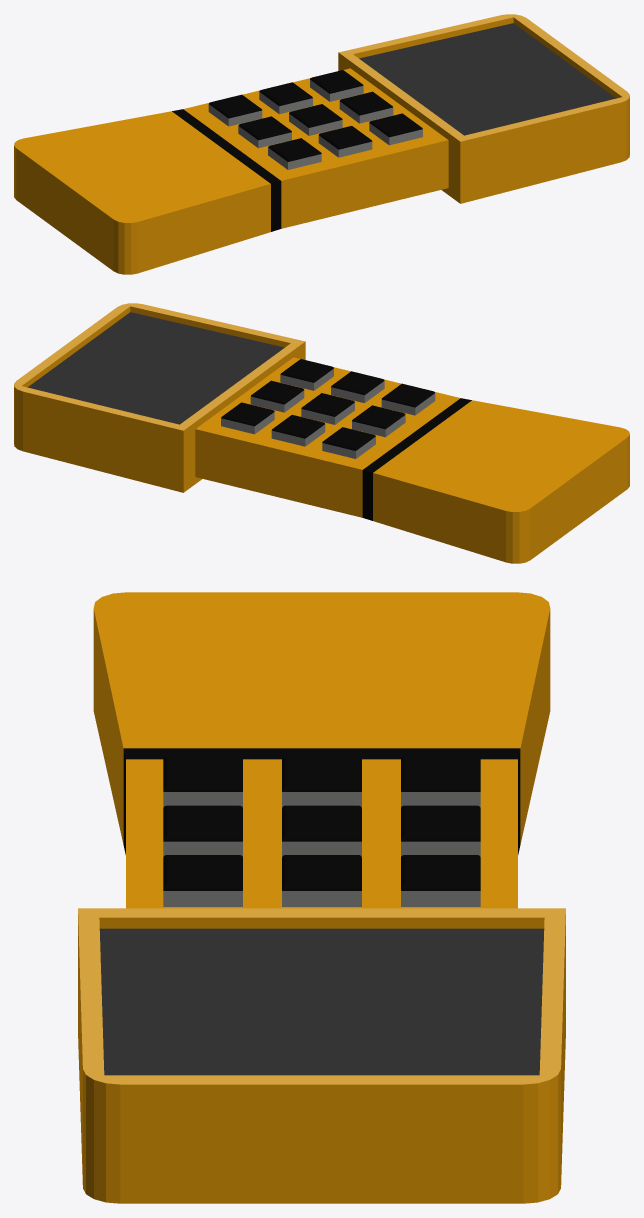
The model's file is detector.fbx.
3 renders of one model, top to bottom at view 1: azimuth 30°, elevation 25°; view 2: azimuth 150°, elevation 25°; view 3: azimuth 270°, elevation 25°, orthographic. The views are drawn at different scales.
Parts seen in each view (by area): view 1: Cube; view 2: Cube; view 3: Cube.
Boxes of the visible parts, bbox=[...] form: Cube: bbox=[14, 14, 629, 274]; Cube: bbox=[14, 303, 629, 563]; Cube: bbox=[78, 592, 565, 1203].
Size of the model in its own units: 204 by 24.87 by 84.23.
